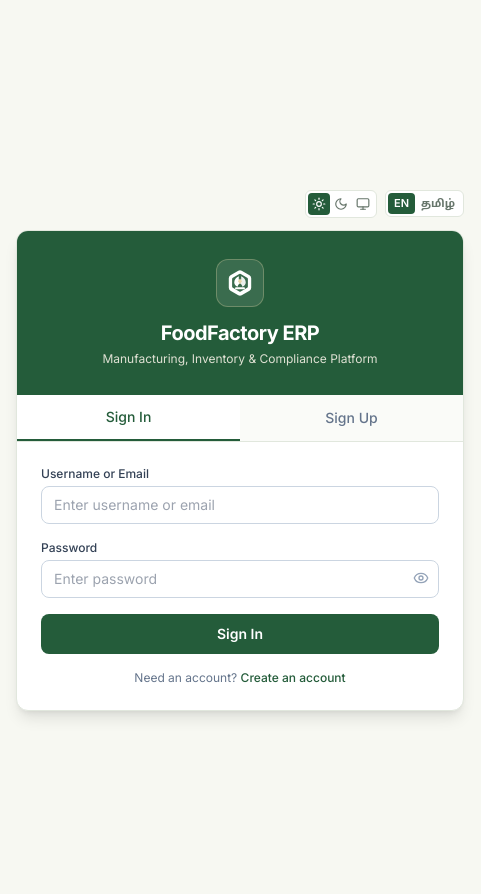
Public Sign Up UI Suite › 1. Renders Sign In and Sign Up tabs and switches between forms
The width and height of the screenshot is (481, 894).
Expected: the field labelled "Username or Email" is shown, [41,486,439,524]
Click the button "Sign Up": (352, 418) [240,394,463,440]
(page scrolled)
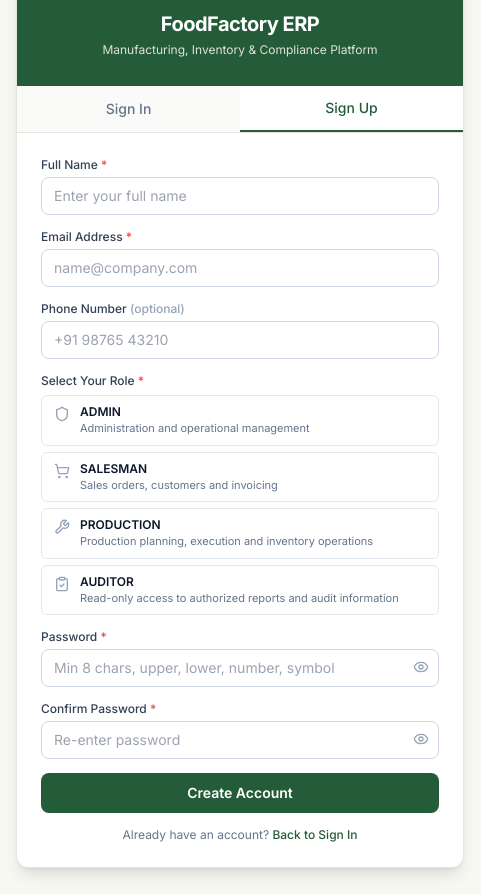
Expected: the field labelled "Full Name *" is shown, [41,177,439,215]
Expected: the field labelled "Email Address *" is shown, [41,249,439,287]
Expected: the password field labelled "Confirm Password *" is shown, [41,721,439,759]
